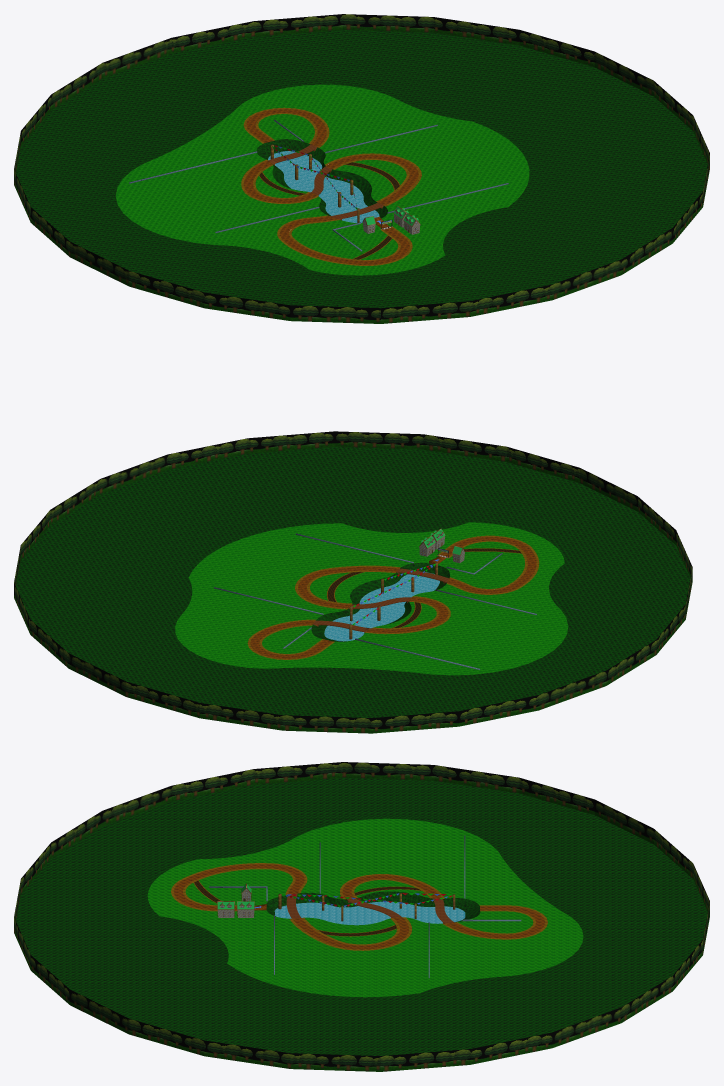
The picture shows the model from 3 angles, top to bottom: view 1: azimuth 30°, elevation 25°; view 2: azimuth 150°, elevation 25°; view 3: azimuth 270°, elevation 25°; orthographic projection. The views are drawn at different scales.
Parts seen in each view (by area): view 1: race_SKP__mat2.002, race_SKP__mat6.002, race_SKP__treewall.001, race_SKP__mat8.002, race_SKP__mat7.002, race_SKP__mat3.001, race_SKP__mat15.002, race_SKP__mat5.001, race_SKP__mat7_offroad.001; view 2: race_SKP__mat2.002, race_SKP__mat6.002, race_SKP__treewall.001, race_SKP__mat8.002, race_SKP__mat7.002, race_SKP__mat3.001, race_SKP__mat15.002, race_SKP__mat5.001, race_SKP__mat7_offroad.001; view 3: race_SKP__mat2.002, race_SKP__mat6.002, race_SKP__treewall.001, race_SKP__mat8.002, race_SKP__mat7.002, race_SKP__mat3.001, race_SKP__mat5.001, race_SKP__mat15.002, race_SKP__mat7_offroad.001.
Boxes of the visible parts, bbox=[...] form: race_SKP__mat2.002: bbox=[16, 30, 707, 308]; race_SKP__mat6.002: bbox=[115, 84, 529, 275]; race_SKP__treewall.001: bbox=[14, 14, 709, 323]; race_SKP__mat8.002: bbox=[244, 109, 418, 264]; race_SKP__mat7.002: bbox=[241, 107, 421, 265]; race_SKP__mat3.001: bbox=[268, 151, 379, 222]; race_SKP__mat15.002: bbox=[129, 119, 508, 251]; race_SKP__mat5.001: bbox=[268, 144, 383, 218]; race_SKP__mat7_offroad.001: bbox=[259, 162, 399, 259]; race_SKP__mat2.002: bbox=[16, 447, 690, 717]; race_SKP__mat6.002: bbox=[175, 522, 568, 675]; race_SKP__treewall.001: bbox=[14, 431, 692, 733]; race_SKP__mat8.002: bbox=[250, 537, 536, 658]; race_SKP__mat7.002: bbox=[247, 535, 539, 659]; race_SKP__mat3.001: bbox=[324, 572, 439, 641]; race_SKP__mat15.002: bbox=[213, 533, 536, 669]; race_SKP__mat5.001: bbox=[313, 568, 449, 631]; race_SKP__mat7_offroad.001: bbox=[327, 548, 521, 628]; race_SKP__mat2.002: bbox=[16, 778, 707, 1055]; race_SKP__mat6.002: bbox=[147, 818, 583, 997]; race_SKP__treewall.001: bbox=[14, 762, 709, 1071]; race_SKP__mat8.002: bbox=[173, 864, 545, 949]; race_SKP__mat7.002: bbox=[171, 863, 547, 950]; race_SKP__mat3.001: bbox=[274, 901, 465, 925]; race_SKP__mat5.001: bbox=[286, 893, 454, 923]; race_SKP__mat15.002: bbox=[209, 835, 521, 978]; race_SKP__mat7_offroad.001: bbox=[194, 881, 420, 936].
Size of the model in its own units: 186384 by 32516 by 186384.
25 materials, 23 textured.
